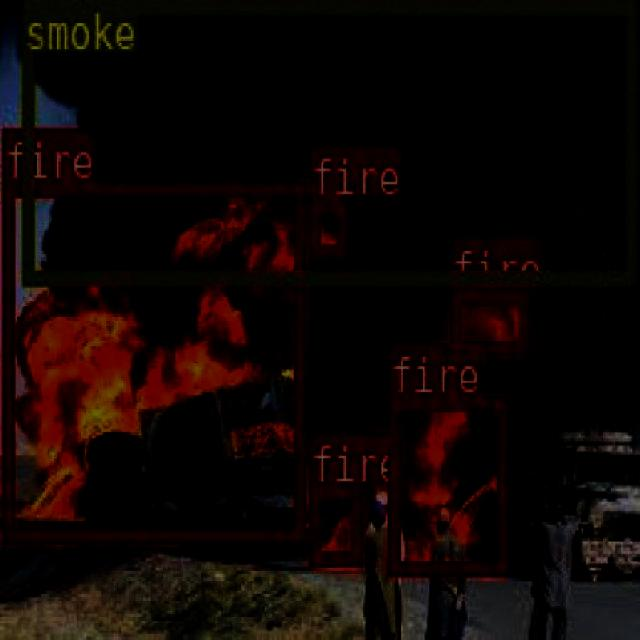fire: (2, 178, 304, 538), (386, 393, 504, 573), (448, 288, 526, 350), (306, 484, 360, 564), (308, 196, 346, 256)
smoke: (20, 0, 634, 280)
